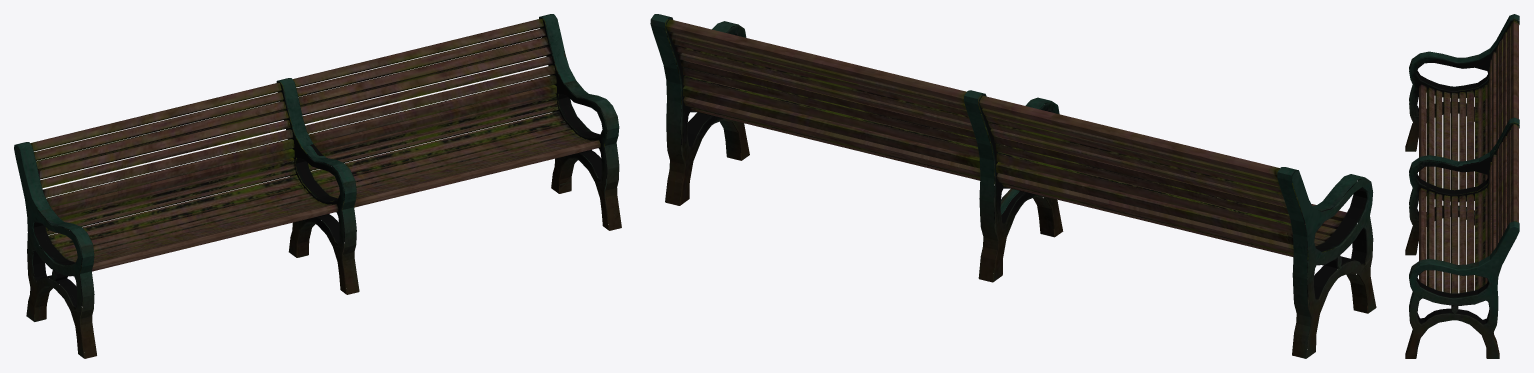
File: s_bench.glb
3 views of the same model, side by side, from view 1: azimuth 30°, elevation 25°; view 2: azimuth 150°, elevation 25°; view 3: azimuth 270°, elevation 25° (orthographic). The views are drawn at different scales.
Bounding box in the file's own units: 205 × 59.97 × 46.76.
Materials: 2 (2 with a texture image).
